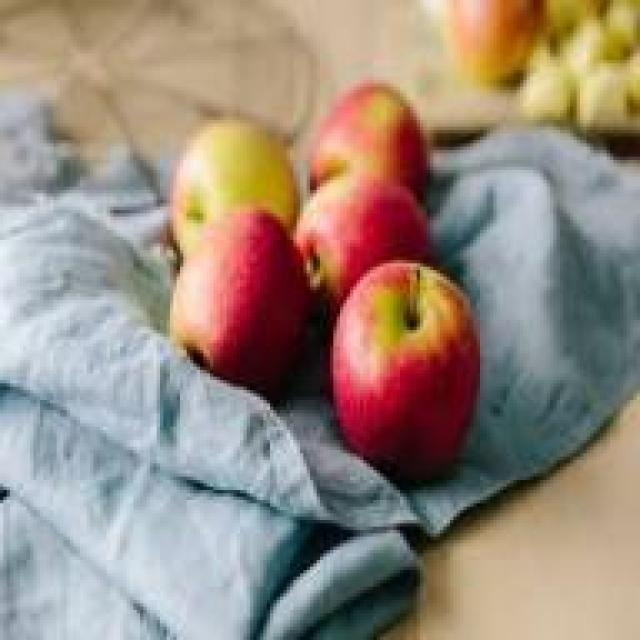apple: (324, 270, 484, 490), (176, 210, 306, 393), (300, 183, 440, 340), (306, 70, 436, 210), (173, 113, 300, 247)
